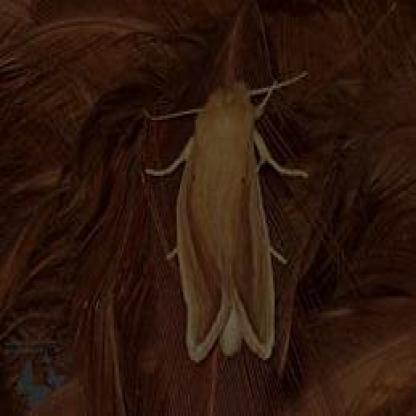stem-borer: (167, 75, 283, 372)
